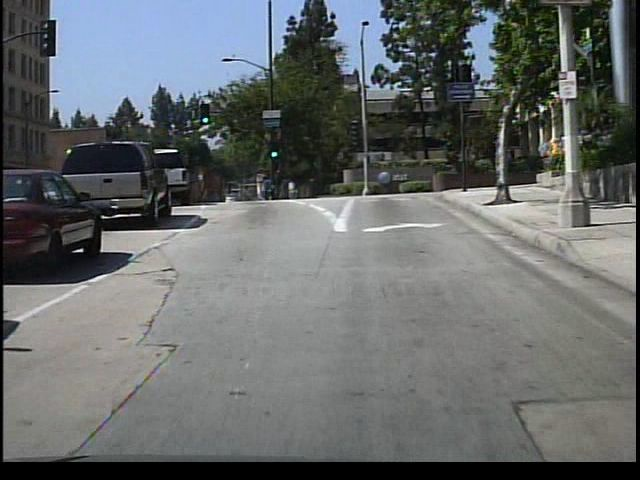person: (257, 169, 276, 203), (285, 175, 300, 202)
